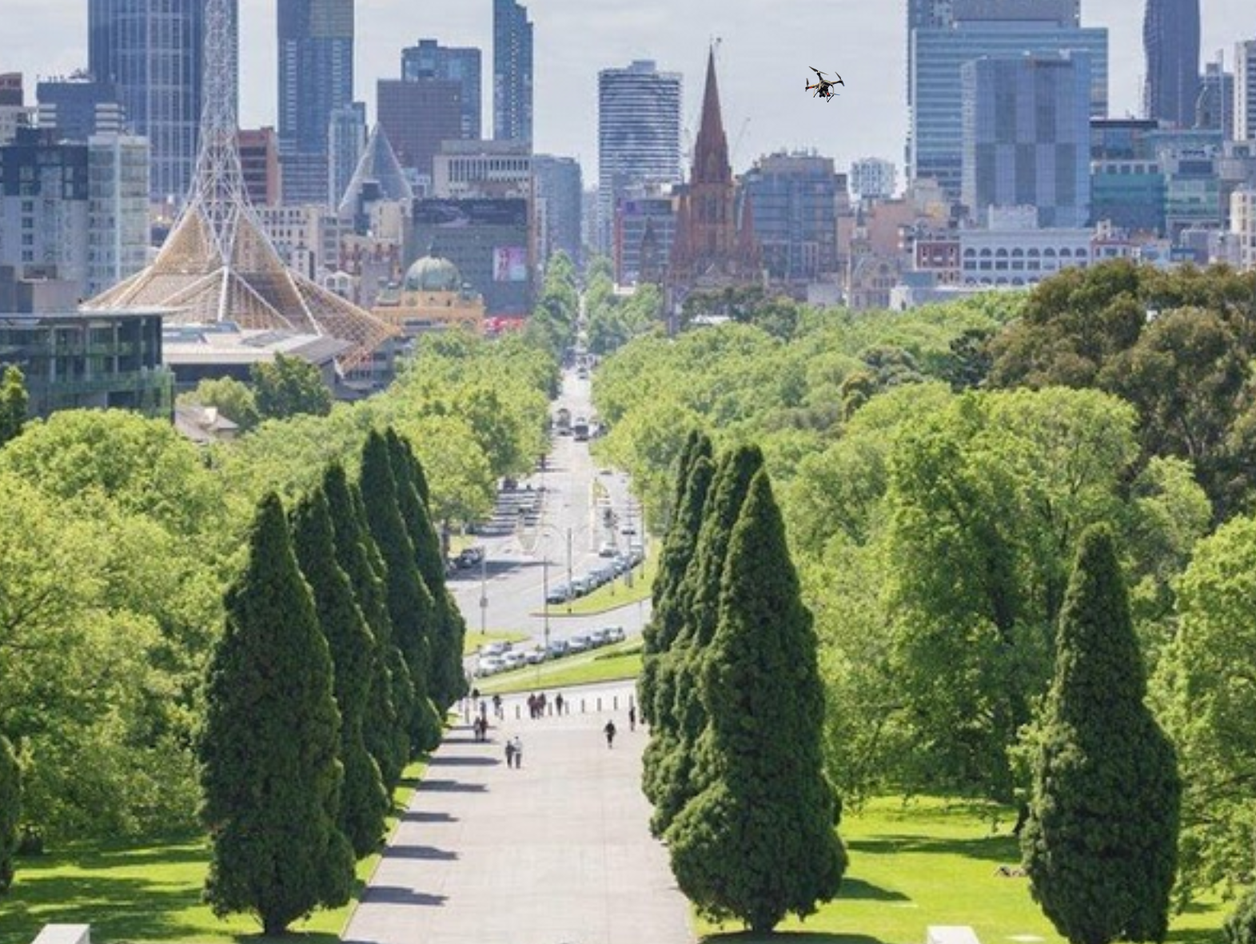drone_other: (802, 64, 846, 107)
